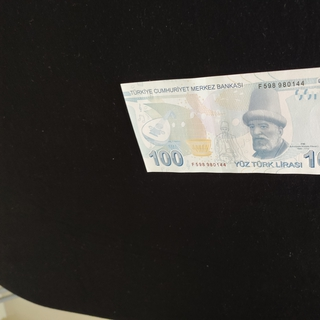100TLBack: (120, 64, 320, 175)
